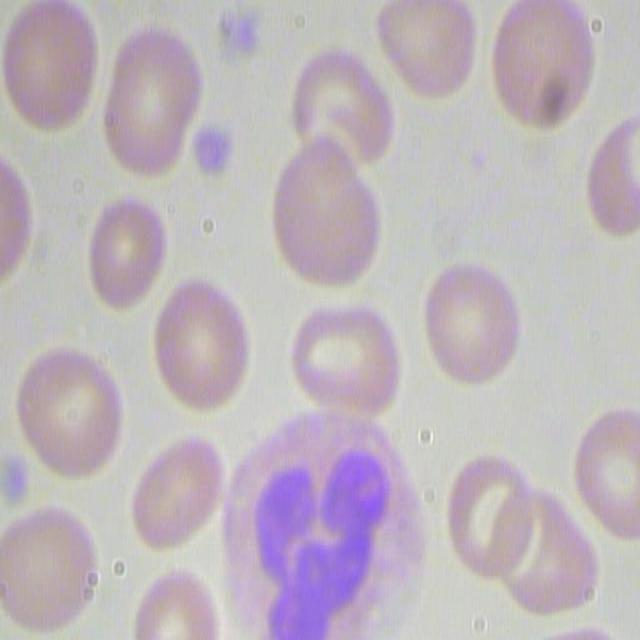RBC: (269, 140, 386, 290), (290, 33, 406, 181), (286, 284, 404, 429), (100, 14, 202, 181), (491, 457, 595, 616), (16, 344, 126, 484), (154, 276, 254, 415), (2, 0, 104, 135), (418, 262, 524, 389), (487, 0, 596, 123), (440, 447, 535, 584), (1, 500, 98, 633), (129, 428, 229, 554), (370, 0, 481, 106), (567, 407, 640, 544), (85, 194, 168, 311), (583, 112, 640, 239), (130, 564, 222, 640), (0, 144, 33, 284)
WBC: (220, 414, 403, 640)
platelets: (211, 2, 265, 71), (187, 116, 239, 180)
